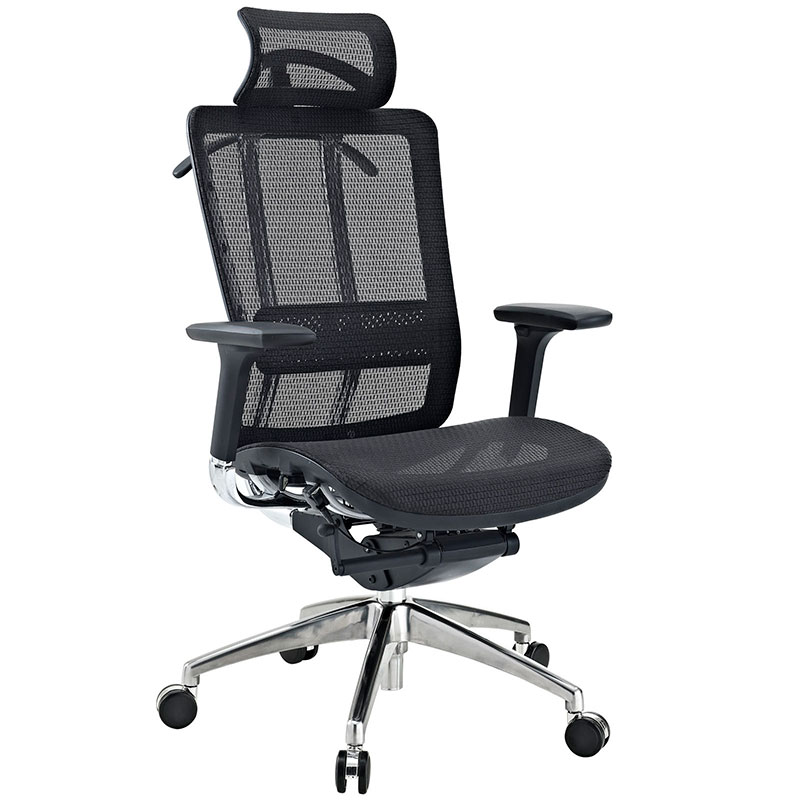chairs: (152, 9, 642, 795)
